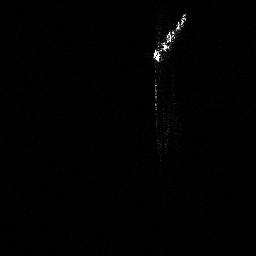ship: (150, 11, 189, 64)
